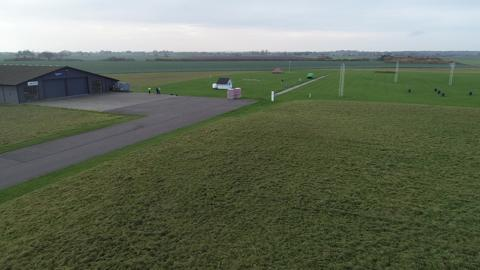RockwoolPallet: (234, 88, 242, 99)
